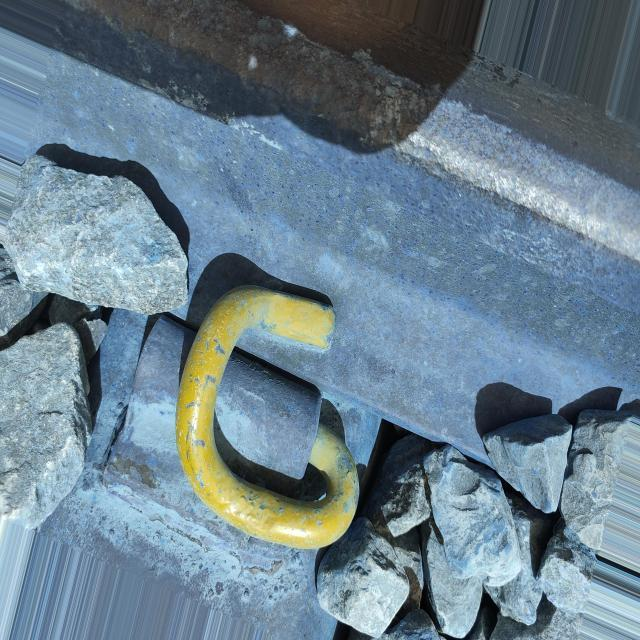Good Fasteners: (70, 202, 423, 598)
